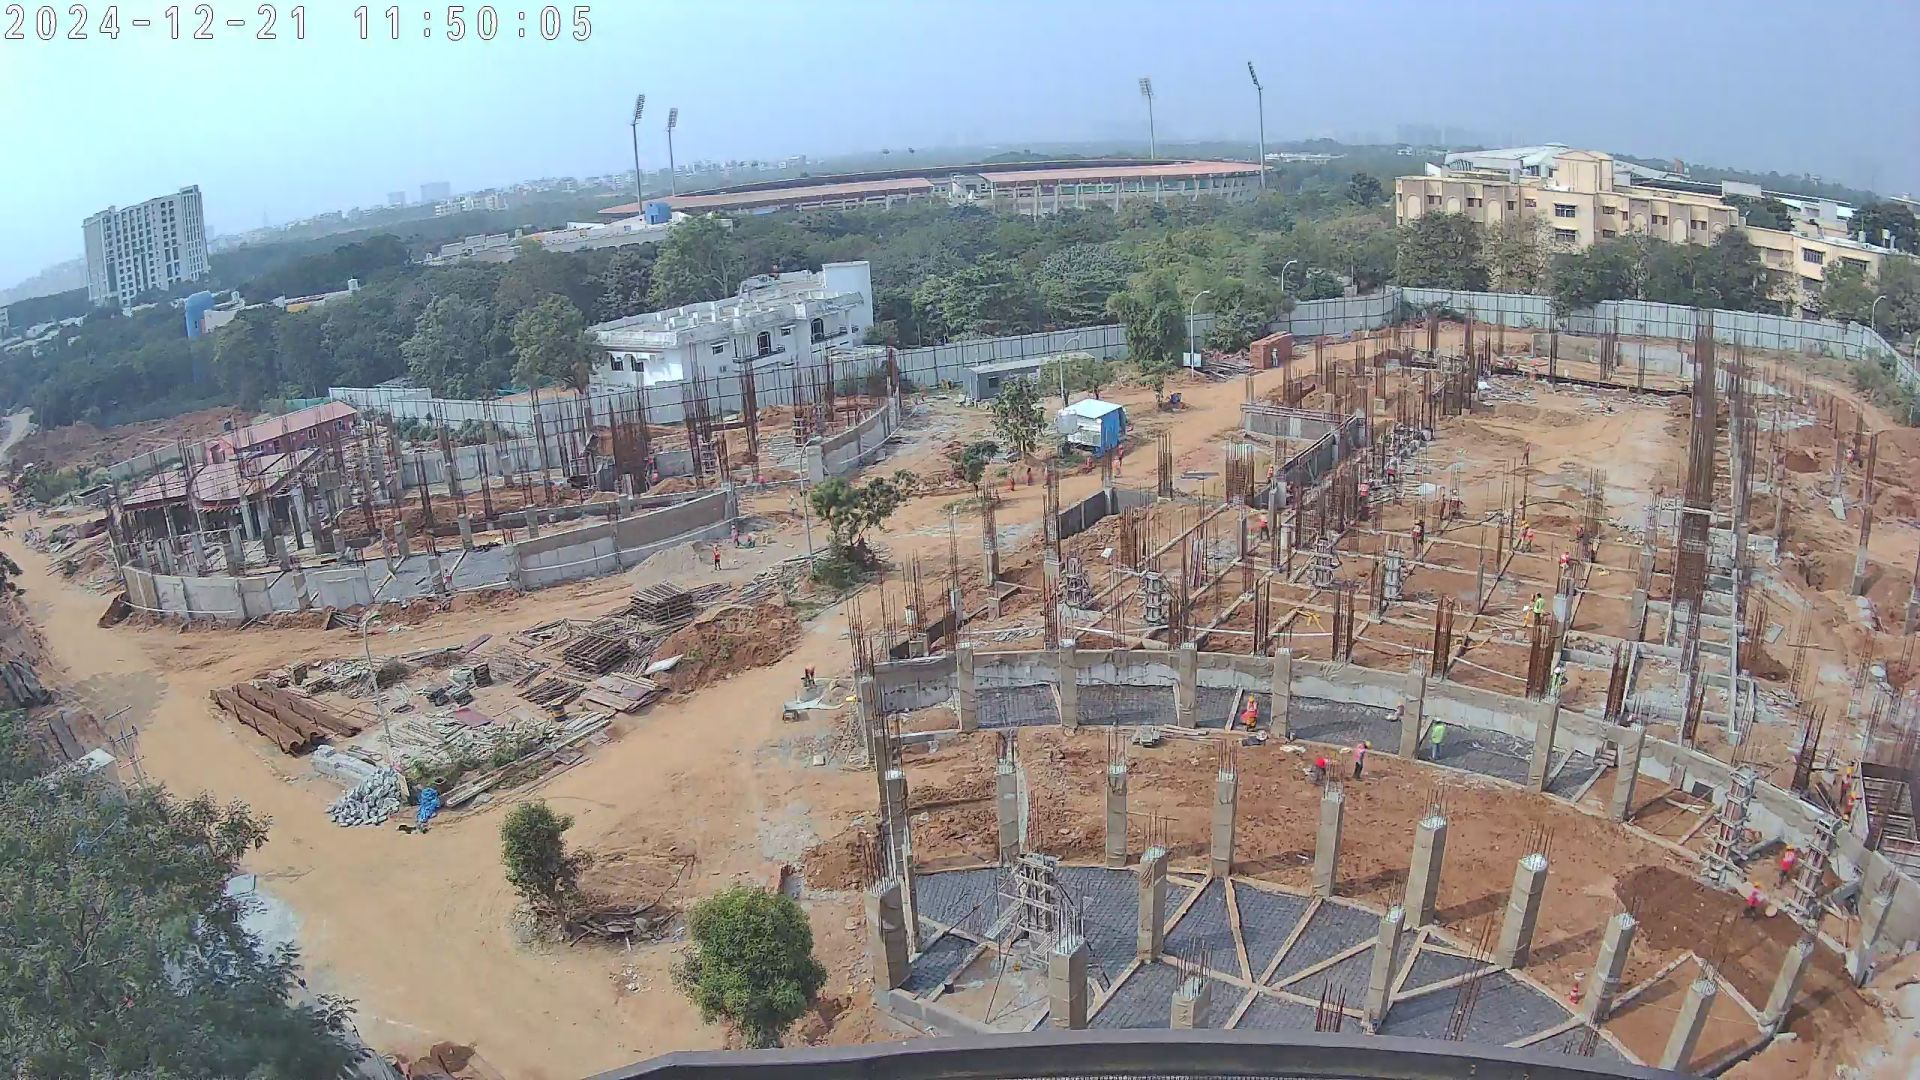worker: (1238, 692, 1261, 744), (1776, 841, 1798, 891), (1740, 883, 1764, 928), (1349, 736, 1371, 778), (1429, 715, 1449, 760), (1548, 666, 1568, 707), (1255, 507, 1274, 547), (1407, 518, 1426, 557), (1526, 593, 1546, 630), (709, 541, 727, 580), (1311, 751, 1327, 793), (1834, 767, 1852, 802), (1448, 489, 1465, 522), (1516, 516, 1526, 560), (1436, 490, 1448, 524), (801, 662, 817, 687), (1846, 792, 1858, 825), (1023, 464, 1038, 490), (1006, 467, 1019, 496), (784, 494, 800, 517), (1560, 548, 1574, 574), (443, 567, 456, 595), (1525, 523, 1537, 553), (1386, 458, 1398, 487), (758, 469, 770, 496), (743, 532, 760, 551), (1360, 479, 1372, 505), (1081, 452, 1095, 474), (1264, 462, 1276, 487), (1115, 443, 1127, 467), (731, 521, 741, 546), (1523, 439, 1531, 469), (1041, 463, 1050, 489), (1575, 521, 1586, 541), (1596, 396, 1605, 416), (1607, 398, 1617, 413), (652, 470, 662, 485), (1500, 355, 1508, 371)
